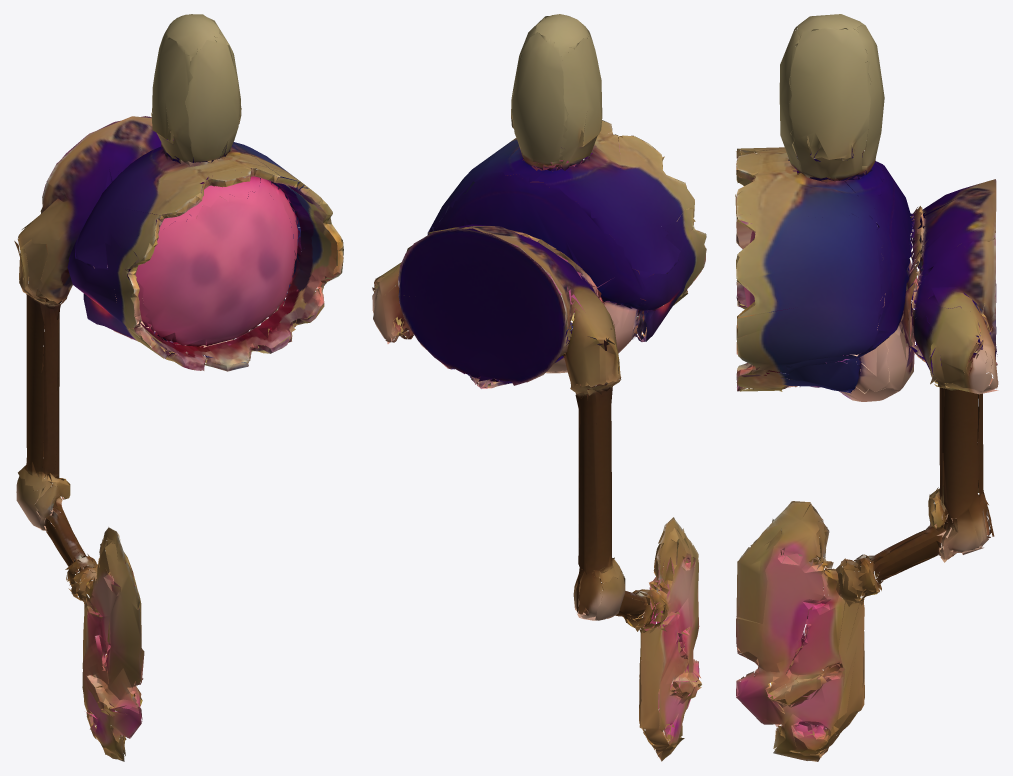
File: hero_mage_toon.glb
The picture shows the model from 3 angles, left to right: view 1: azimuth 30°, elevation 25°; view 2: azimuth 150°, elevation 25°; view 3: azimuth 270°, elevation 25°; orthographic projection. The views are drawn at different scales.
Visible parts, largest first — view 1: HeroMage; view 2: HeroMage; view 3: HeroMage.
Part boxes in pixels (x1,y1,x2,y2): HeroMage: [14, 14, 343, 761]; HeroMage: [372, 14, 706, 761]; HeroMage: [735, 14, 998, 761].
Bounding box in the file's own units: 0.6658 × 1.89 × 0.5663.
Materials: 1 (1 with a texture image).
